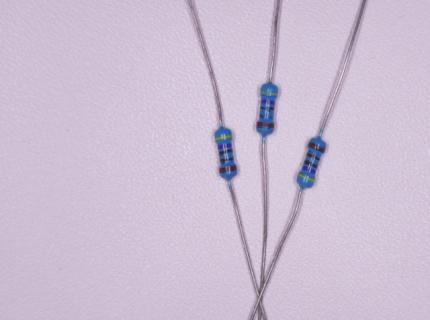Black band: (307, 151, 320, 161), (304, 159, 317, 168), (219, 149, 233, 156), (220, 157, 233, 163), (260, 114, 273, 119), (261, 106, 274, 110)
Brown band: (308, 141, 326, 153), (219, 165, 237, 173), (257, 121, 275, 128)
Violet band: (302, 166, 316, 174), (217, 143, 232, 150), (261, 100, 275, 105)
Yellow band: (298, 173, 315, 182), (214, 134, 233, 142), (260, 91, 278, 96)
